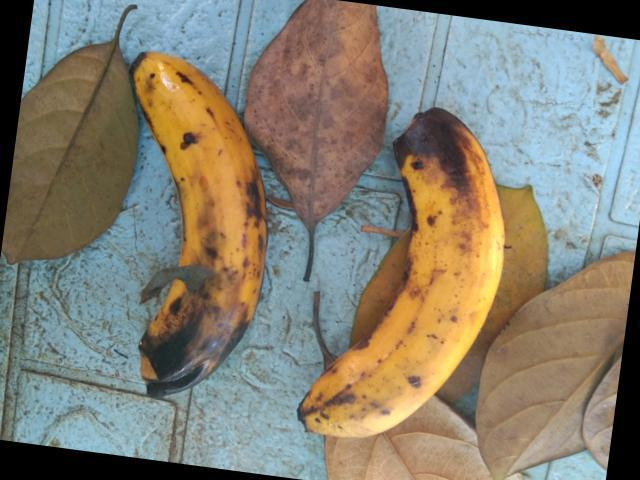overripe: (284, 104, 506, 444)
rotten: (92, 40, 286, 445)
